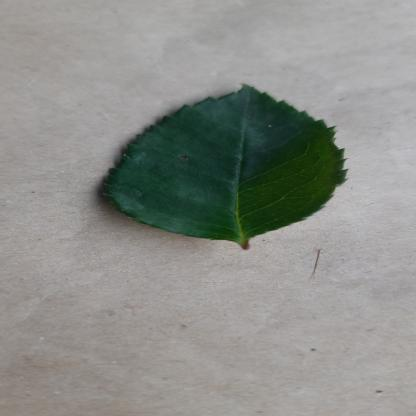normal: (107, 82, 358, 244)
